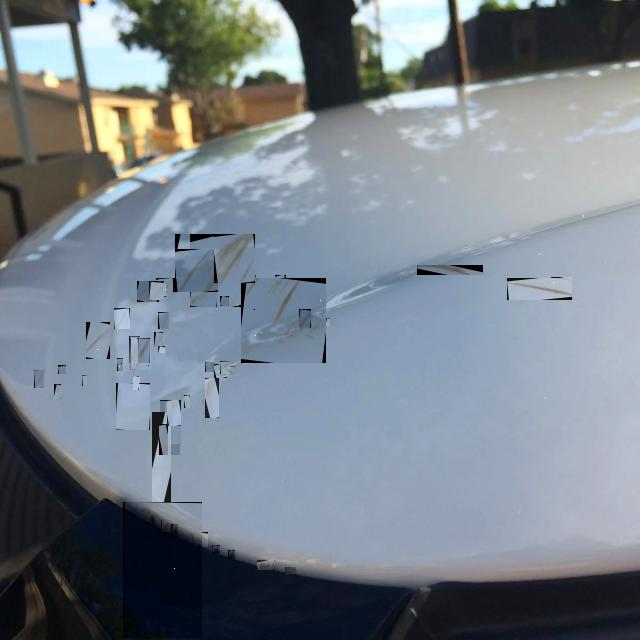Scratch: (126, 503, 201, 547), (203, 234, 246, 306), (175, 243, 254, 281), (218, 234, 253, 282), (179, 249, 215, 291), (278, 314, 325, 340), (160, 400, 179, 454), (507, 282, 571, 296), (217, 235, 254, 259), (275, 279, 293, 321), (190, 279, 216, 305), (86, 328, 109, 354), (131, 338, 150, 369), (418, 265, 470, 274), (166, 400, 178, 435), (137, 283, 158, 301), (160, 278, 176, 300), (206, 378, 215, 417), (158, 278, 174, 298), (149, 282, 166, 300), (115, 308, 128, 328), (138, 339, 149, 362), (138, 283, 152, 301), (168, 400, 178, 425), (141, 507, 156, 522), (207, 380, 218, 400), (137, 286, 150, 302), (245, 276, 254, 299), (149, 285, 163, 299), (237, 265, 249, 281), (242, 349, 255, 362), (299, 312, 310, 327), (190, 532, 201, 546), (265, 280, 275, 294), (258, 561, 274, 569), (35, 371, 43, 387), (160, 313, 168, 328), (216, 364, 225, 377), (164, 438, 170, 456), (287, 326, 299, 335), (241, 354, 251, 364), (247, 347, 255, 359), (278, 276, 284, 291), (247, 347, 256, 357), (130, 350, 137, 362), (163, 433, 167, 454), (155, 334, 162, 345), (162, 520, 169, 531), (553, 279, 571, 283), (292, 325, 301, 333), (293, 325, 301, 334), (225, 366, 234, 374), (222, 362, 229, 372), (205, 363, 213, 371), (118, 383, 123, 395), (117, 358, 122, 370), (285, 325, 291, 335), (259, 560, 267, 567), (295, 325, 302, 333), (220, 298, 228, 305), (56, 385, 60, 398), (309, 320, 319, 325), (133, 378, 138, 388), (192, 298, 198, 306), (286, 567, 295, 572), (213, 546, 219, 553), (59, 366, 65, 373), (173, 525, 177, 535), (186, 395, 189, 407), (305, 331, 315, 334), (230, 551, 234, 558), (83, 376, 86, 385), (326, 319, 329, 326), (159, 348, 164, 352)
